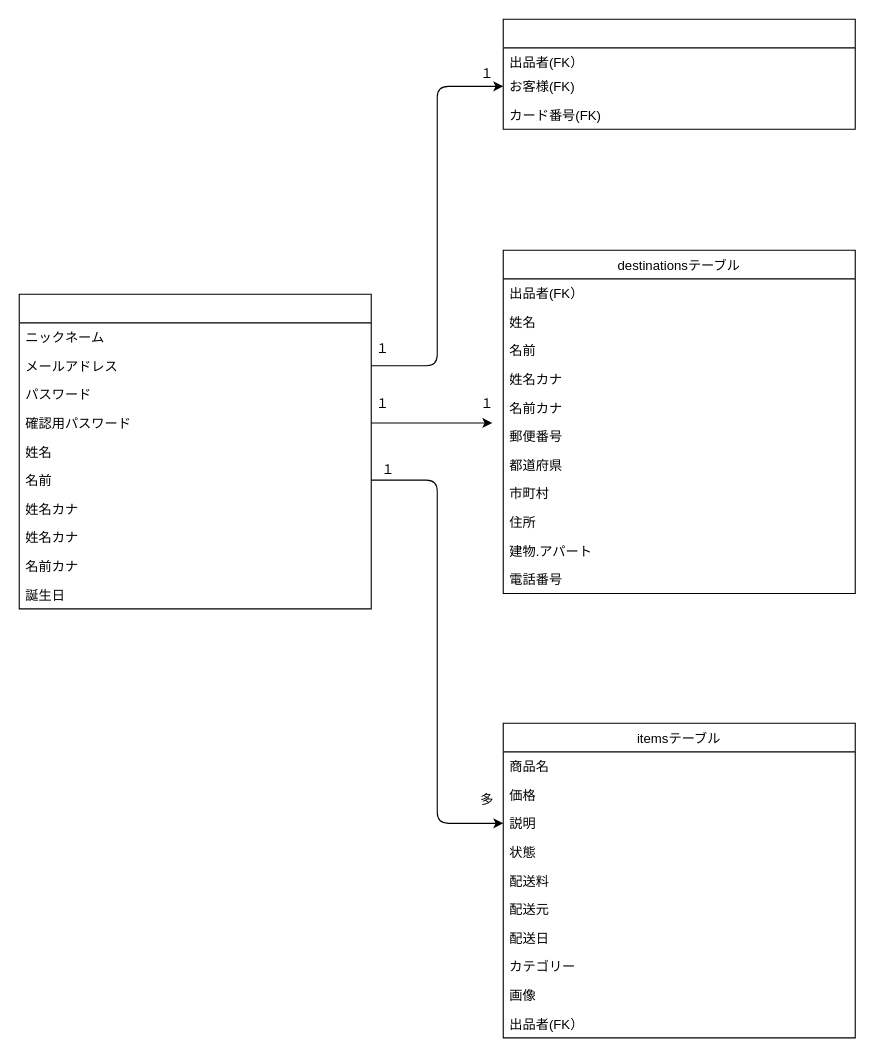
Image size: 875x1060. Some labels were removed from this diagram. Here are the shapes that lost their labels. From the top down, the box of each, then its label:
(502, 18, 855, 129): ordersテーブル
(18, 293, 371, 609): usersテーブル
